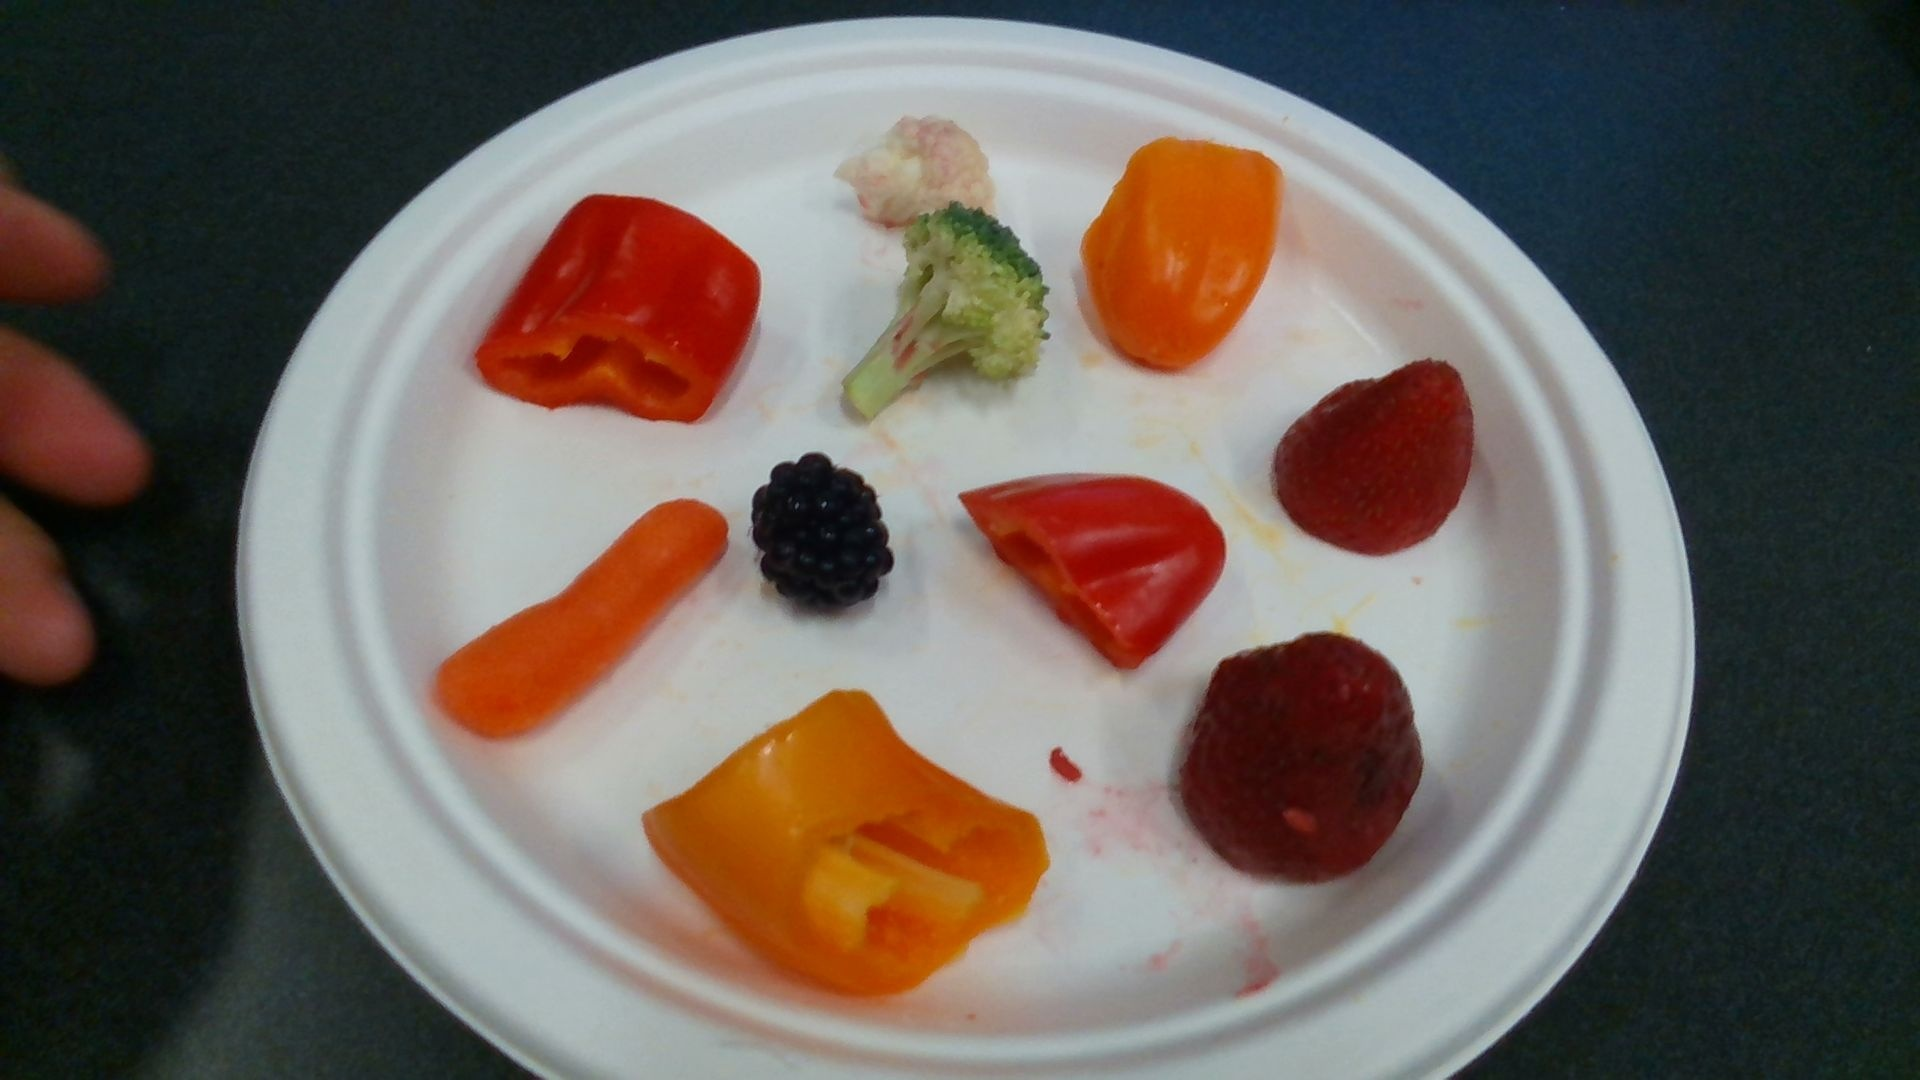bell_pepper: (644, 694, 1048, 985), (472, 198, 762, 421), (963, 475, 1225, 669), (1084, 145, 1280, 371)
blackberry: (756, 455, 894, 620)
broccoli: (840, 204, 1044, 415)
carrot: (434, 502, 727, 738)
cauliflower: (837, 117, 996, 223)
strawberry: (1184, 636, 1420, 881), (1276, 361, 1474, 556)
